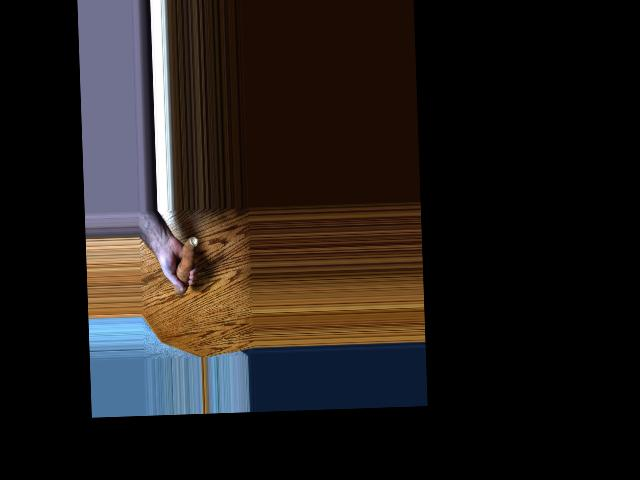sweet_potato: (173, 233, 199, 297)
